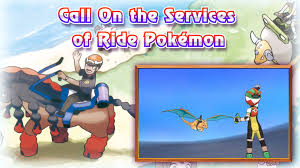charizard: (165, 104, 235, 139)
